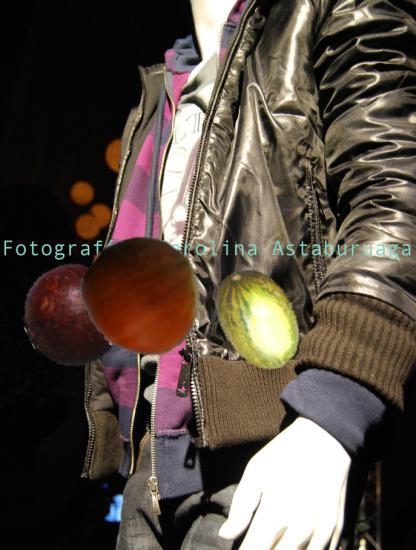Mangostan: (22, 248, 147, 373)
Melon: (207, 263, 315, 371)
Nut: (84, 236, 204, 356)
